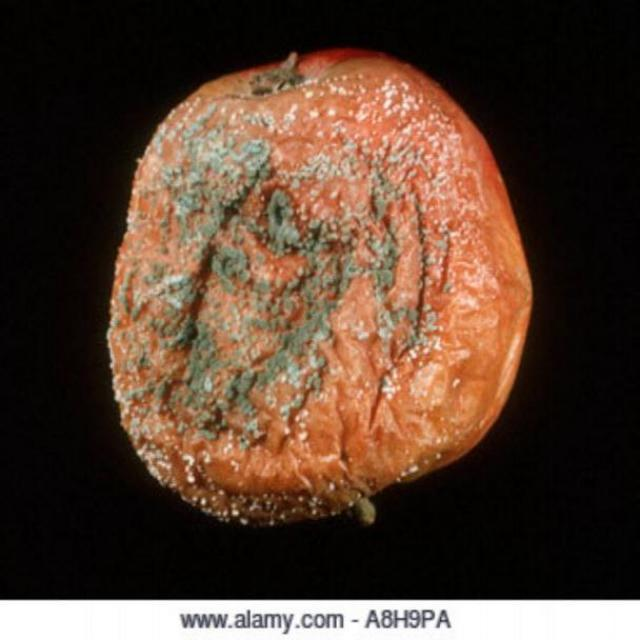ROT: (86, 29, 552, 529)
